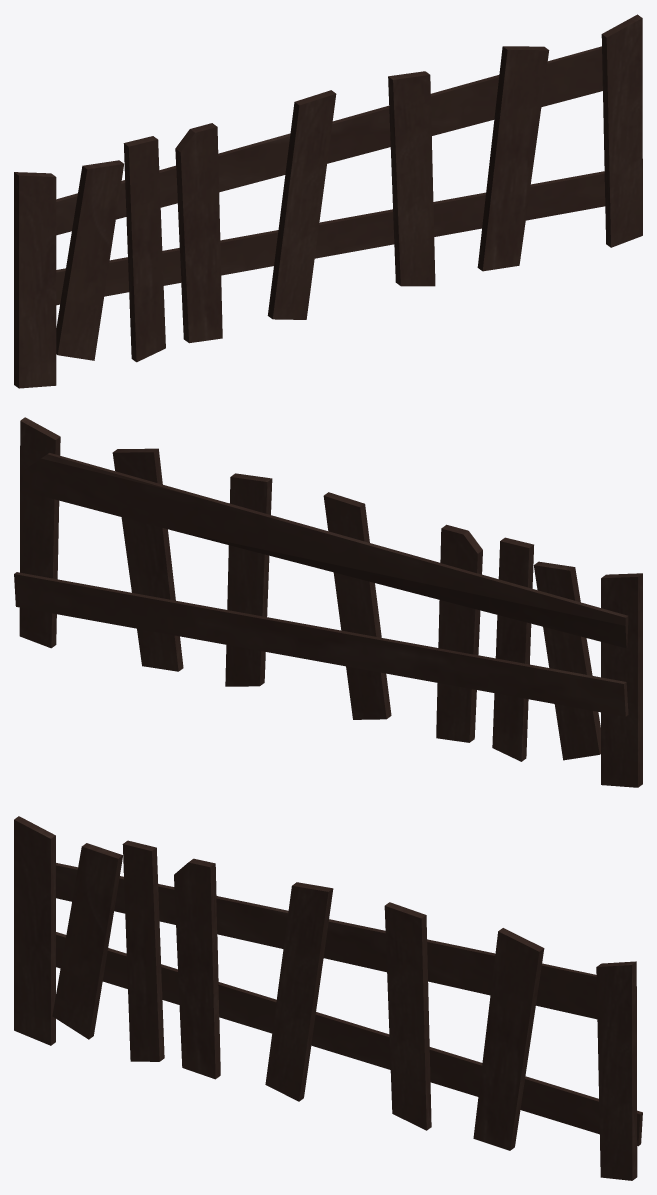
File: SM_Barriere_004.fbx
The picture shows the model from 3 angles, top to bottom: view 1: azimuth 30°, elevation 25°; view 2: azimuth 150°, elevation 25°; view 3: azimuth 330°, elevation 25°; orthographic projection.
Visible parts, largest first — view 1: polySurface2; view 2: polySurface2; view 3: polySurface2.
Part boxes in pixels (x1,y1,x2,y2): polySurface2: [14, 14, 642, 388]; polySurface2: [14, 417, 642, 787]; polySurface2: [14, 816, 642, 1180].
Bounding box in the file's own units: 411 × 141 × 9.
